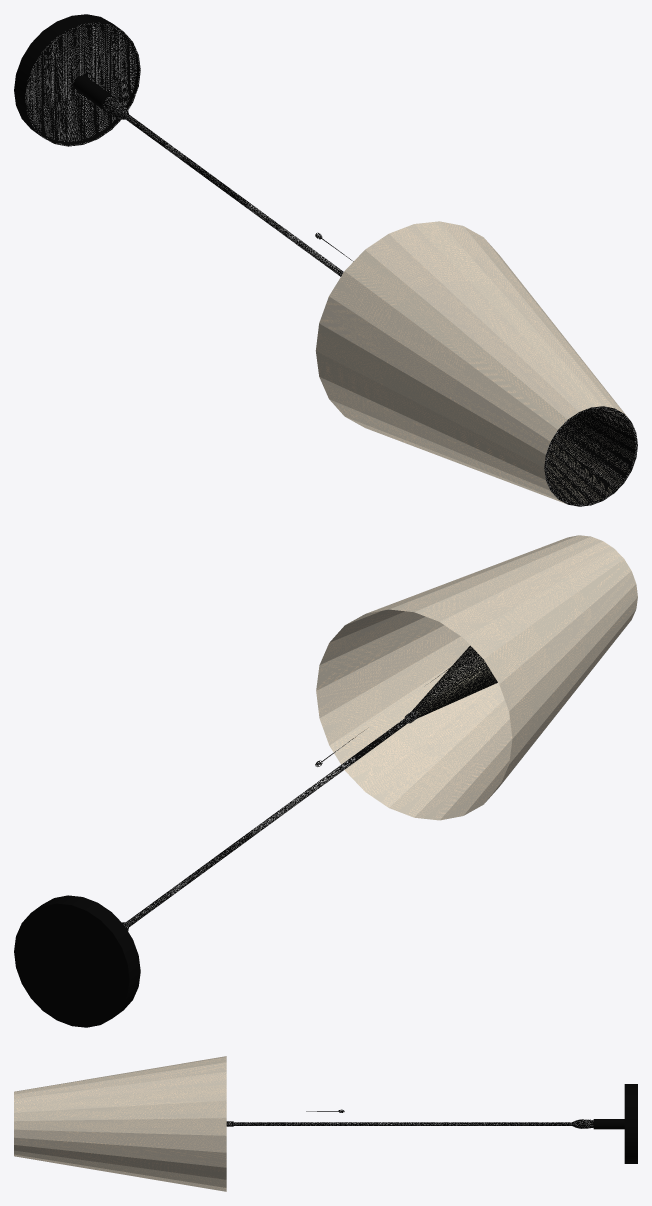
File: lamp_ikea_arstid1d01d02d0.obj
3 views of the same model, one above another, from view 1: azimuth 30°, elevation 25°; view 2: azimuth 150°, elevation 25°; view 3: azimuth 270°, elevation 25° (orthographic). The views are drawn at different scales.
Visible parts, largest first — view 1: lamp_ikea_arstid1d01d02d0; view 2: lamp_ikea_arstid1d01d02d0; view 3: lamp_ikea_arstid1d01d02d0.
Boxes of the visible parts, x1,y1,x2,y2 form: lamp_ikea_arstid1d01d02d0: (14, 14, 637, 506); lamp_ikea_arstid1d01d02d0: (14, 535, 637, 1027); lamp_ikea_arstid1d01d02d0: (14, 1056, 637, 1191).
Size of the model in its own units: 0.2393 by 0.2393 by 1.1.
6 materials, 1 textured.
